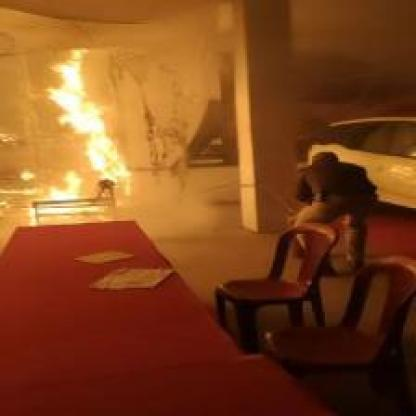Fire: (22, 40, 130, 226)
